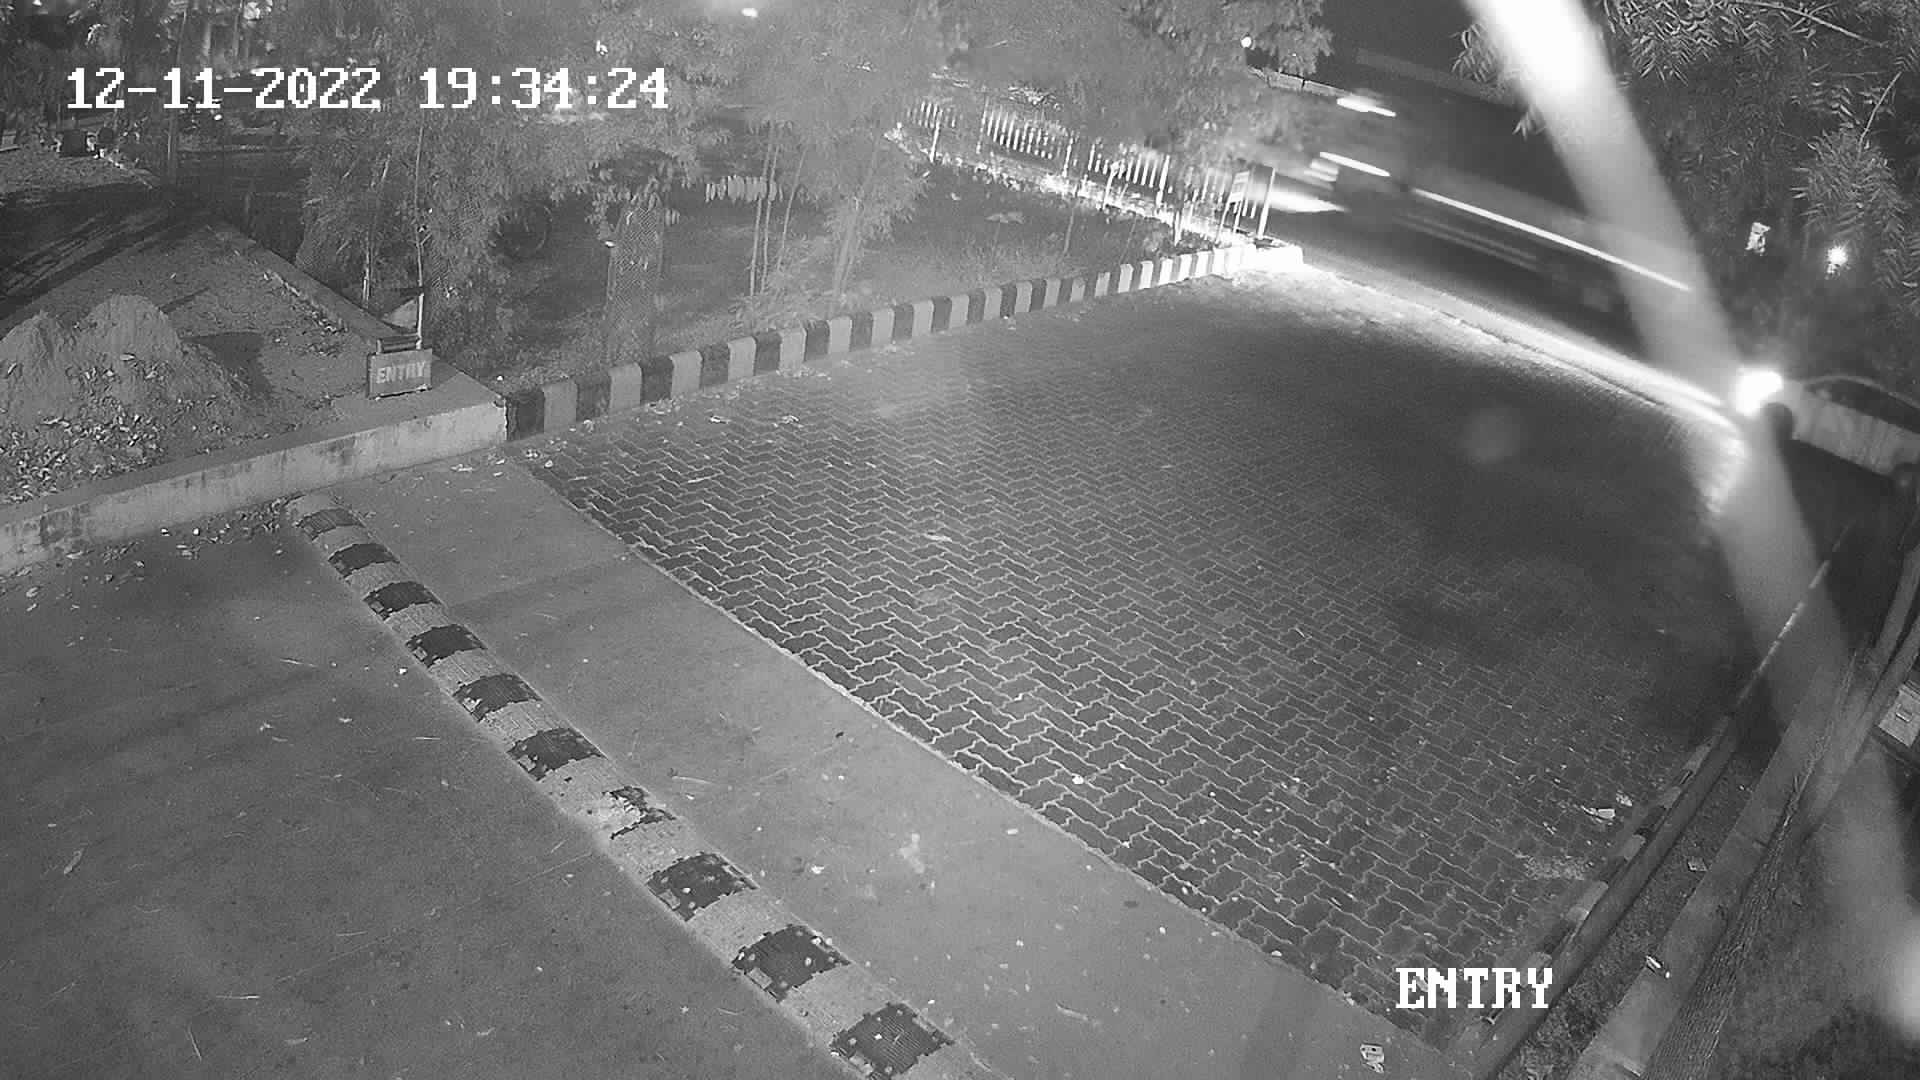Car: (1728, 349, 1915, 511)
HMV: (1299, 67, 1720, 326)
